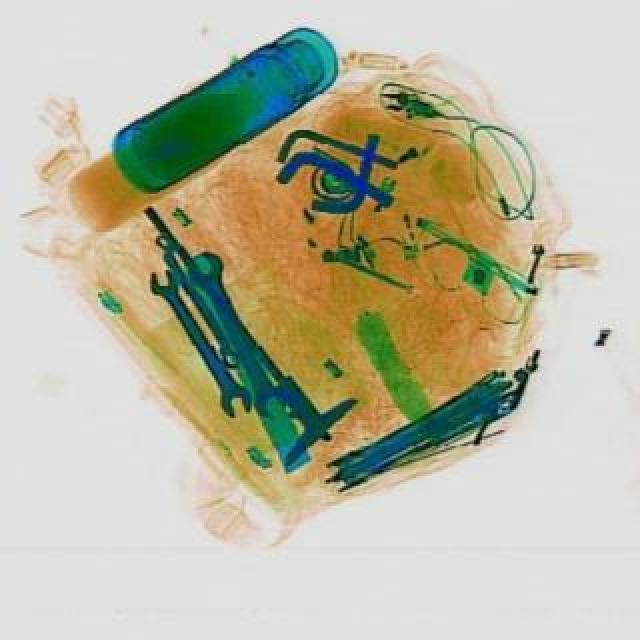scissors: (174, 246, 294, 430), (142, 268, 258, 426)
